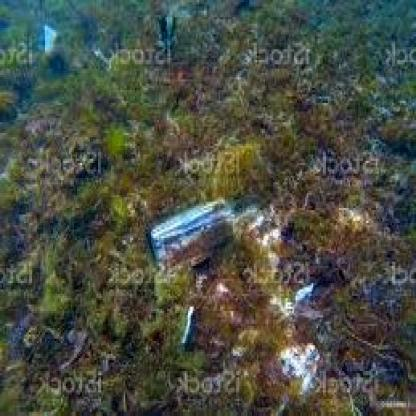can: (148, 198, 236, 268)
